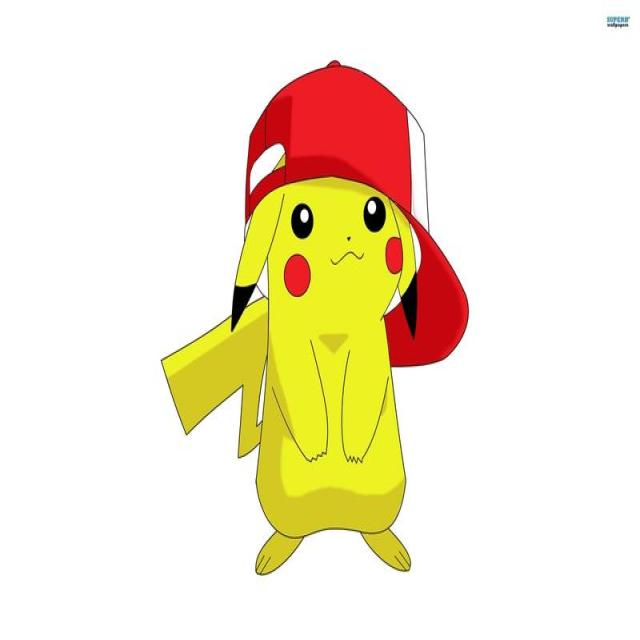pikachu: (162, 170, 420, 573)
